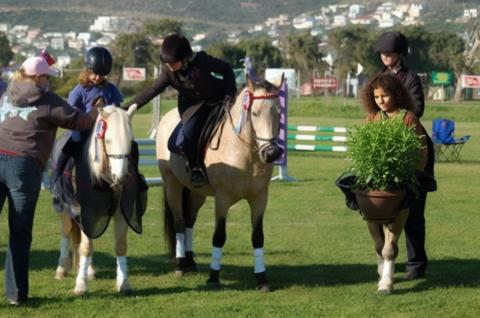chair: (431, 119, 472, 166)
horse: (157, 79, 282, 294), (52, 105, 138, 297)
person: (1, 58, 102, 308), (122, 35, 239, 188), (337, 32, 439, 193), (51, 48, 123, 196)
pottedplant: (345, 75, 427, 295)
